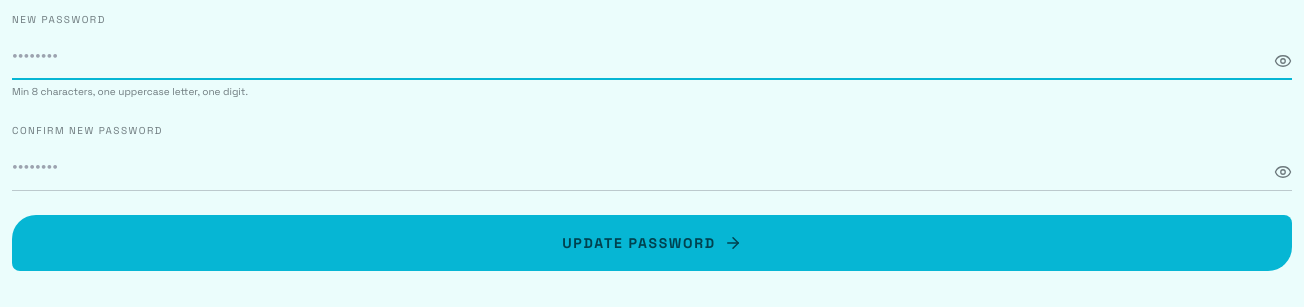
Test: ResetPasswordForm — validation › shows password too short error
Type "Short1" into the password field labelled "New password".
click(652, 56); type("Short1")  # box [12,31,1292,80]
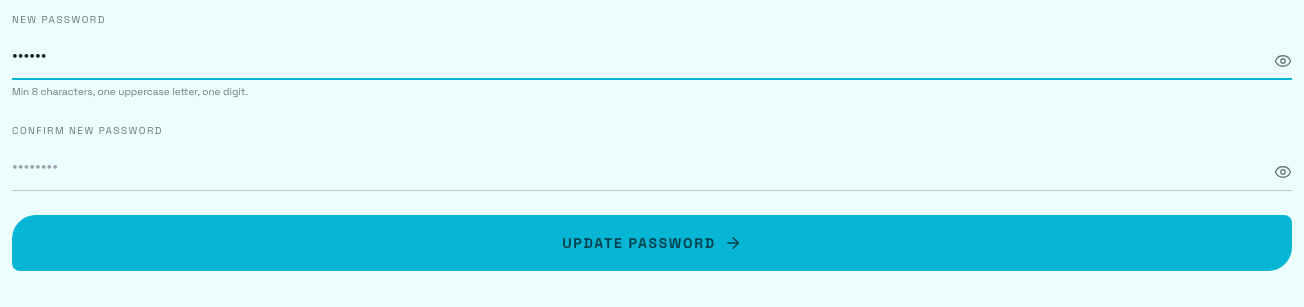
Click the button "Update password".
click(652, 243)  # box [12,215,1292,271]
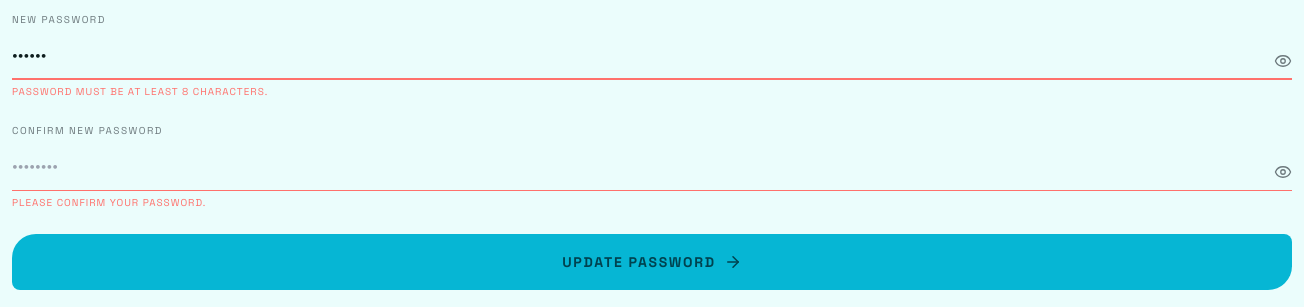
Now the text "Password must be at least 8 characters." is shown, box [12,85,268,98]
